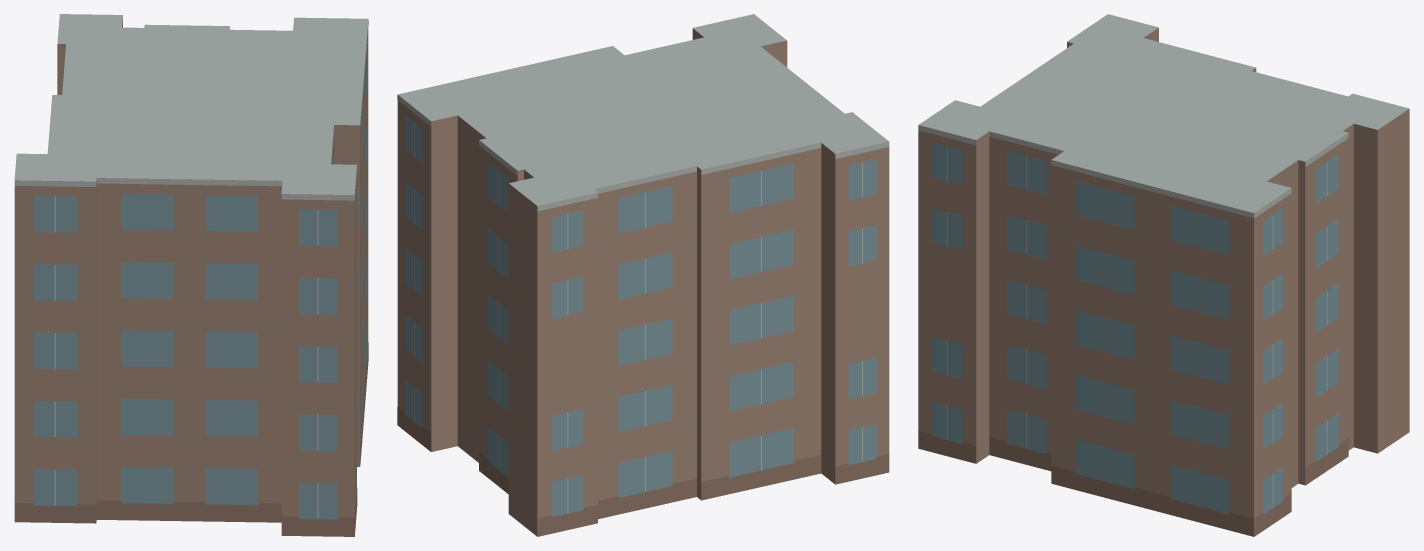
The model's file is survey-upis-32795831.glb.
3 renders of one model, left to right at view 1: azimuth 30°, elevation 25°; view 2: azimuth 150°, elevation 25°; view 3: azimuth 270°, elevation 25°, orthographic. The views are drawn at different scales.
Visible parts, largest first — view 1: survey-upis-32795831.tmp; view 2: survey-upis-32795831.tmp; view 3: survey-upis-32795831.tmp.
Part boxes in pixels (<box>): survey-upis-32795831.tmp: <box>14,14,368,536</box>; survey-upis-32795831.tmp: <box>397,14,889,536</box>; survey-upis-32795831.tmp: <box>918,14,1409,536</box>.
Size of the model in its own units: 20.07 by 15.2 by 20.92.
